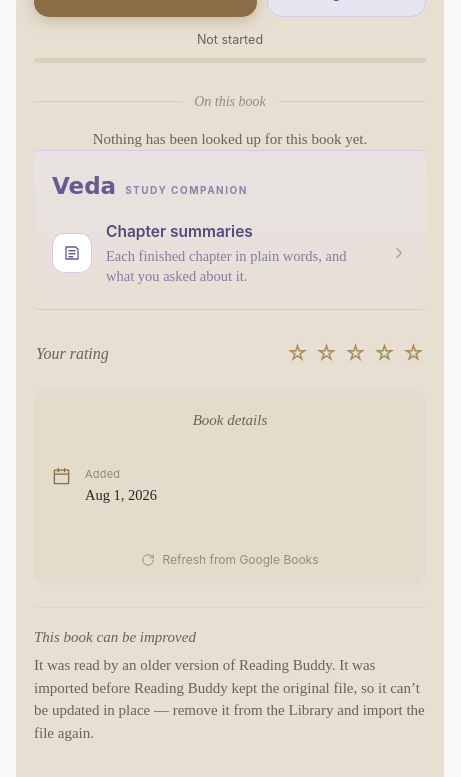
Scenario: BookInfo › refreshing from Google Books › says so plainly when Google has no record
This screenshot has width=461, height=777.
(page scrolled)
Click the button "Refresh from Google Books". click: (230, 556)
box: [50,535,410,577]
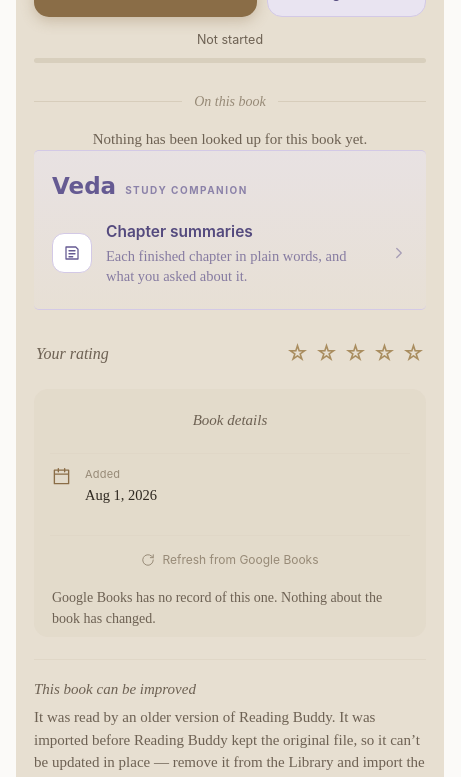
Check: the text "Google Books has no record of this one. Nothing about the book has changed." is shown, box [50,577,410,629]
